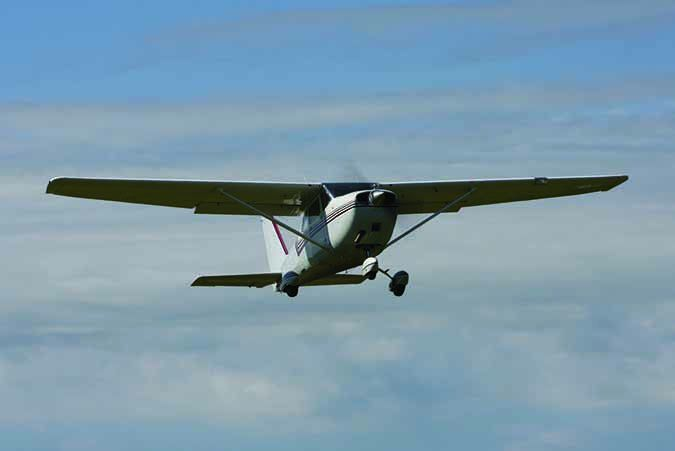plane: (45, 174, 628, 298)
